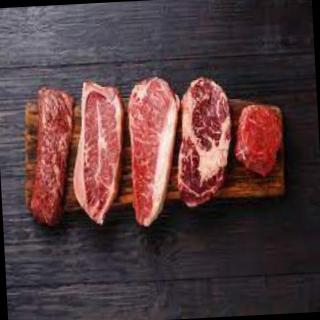Daging Sapi: (69, 82, 131, 232), (127, 73, 183, 228), (176, 78, 237, 208), (27, 87, 81, 225), (235, 106, 286, 177)
